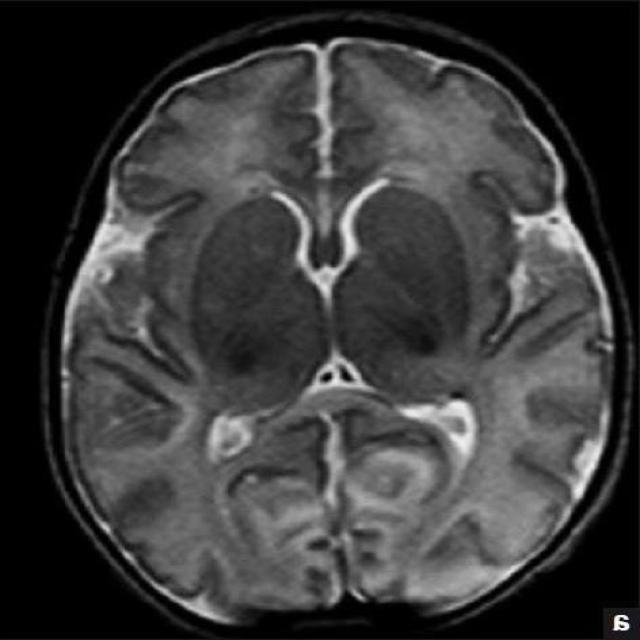notumor: (43, 11, 635, 635)
